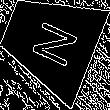N_NW: (21, 13, 78, 70)
